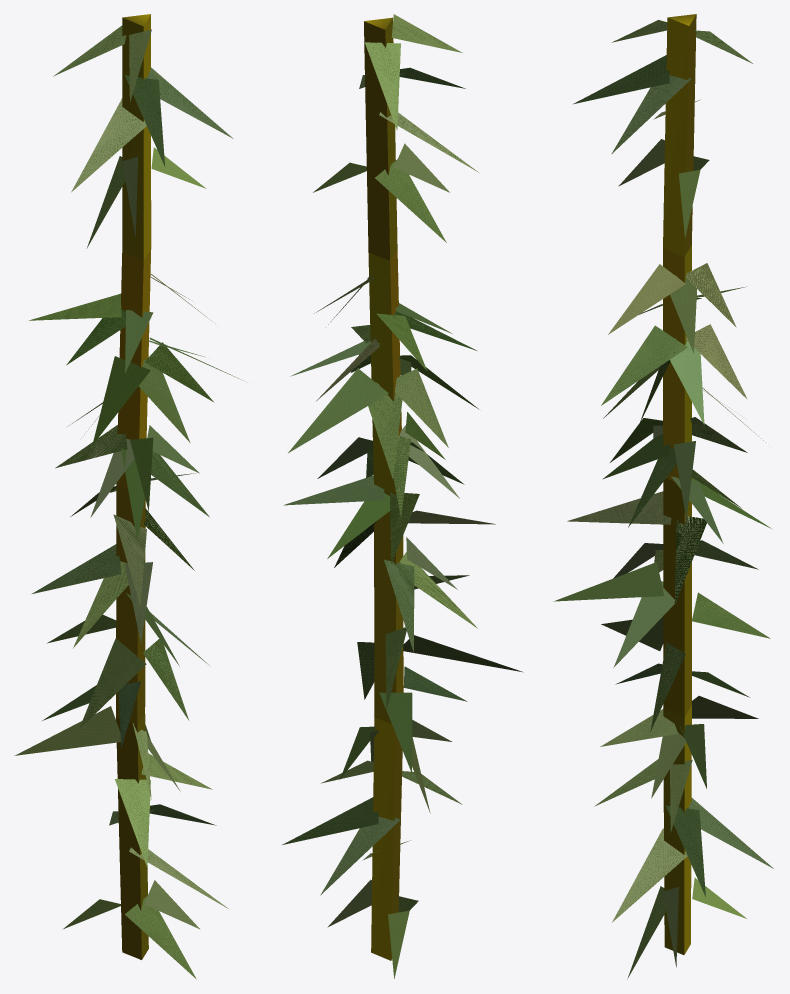
The model's file is Tree_BambooE.fbx.
The picture shows the model from 3 angles, left to right: view 1: azimuth 30°, elevation 25°; view 2: azimuth 150°, elevation 25°; view 3: azimuth 270°, elevation 25°; orthographic projection.
Visible parts, largest first — view 1: Tree_BambooE; view 2: Tree_BambooE; view 3: Tree_BambooE.
Part boxes in pixels (x1,y1,x2,y2): Tree_BambooE: (14, 14, 243, 979); Tree_BambooE: (282, 14, 523, 978); Tree_BambooE: (553, 14, 773, 979).
Size of the model in its own units: 187 by 885 by 189.
